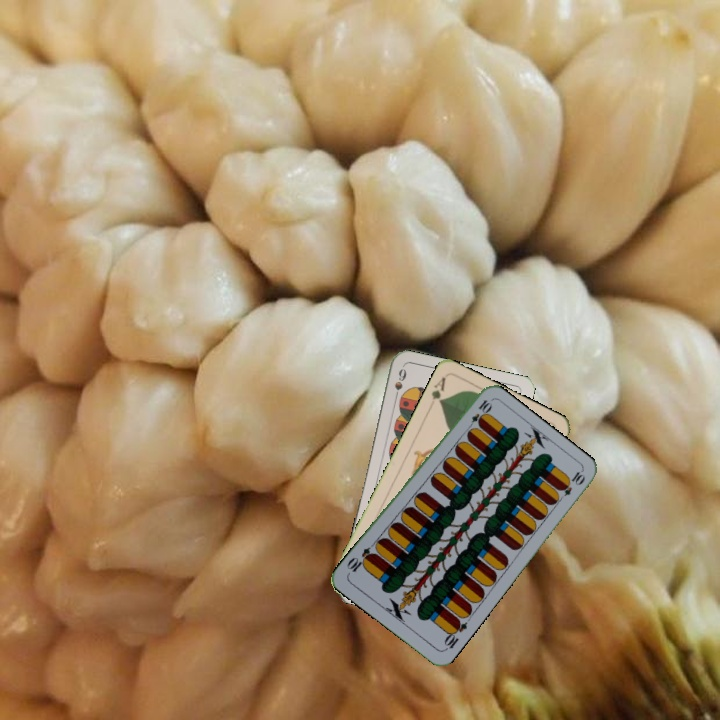E10: (463, 396, 494, 433), (440, 615, 470, 653)
GA: (427, 373, 449, 406)
S9: (390, 364, 409, 404)
